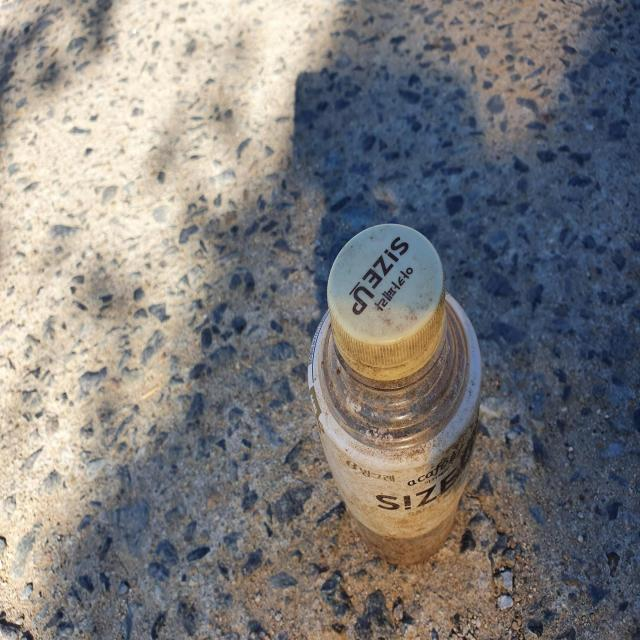plastic: (308, 223, 482, 565)
